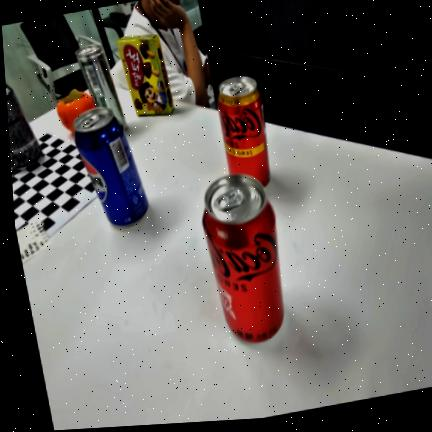can_coke_decaf: (218, 76, 272, 187)
can_coke_zero: (203, 175, 287, 342)
can_pepsi: (72, 106, 151, 226)
